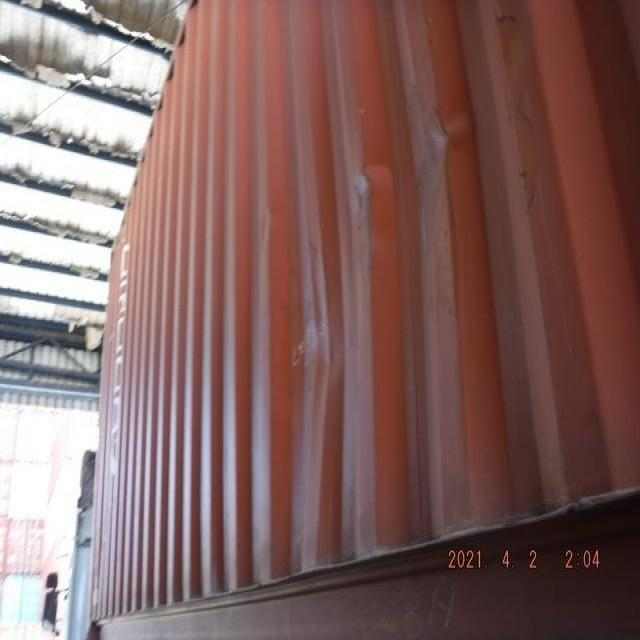Dent: (265, 231, 361, 449)
Minor-Dent: (335, 100, 489, 236)
